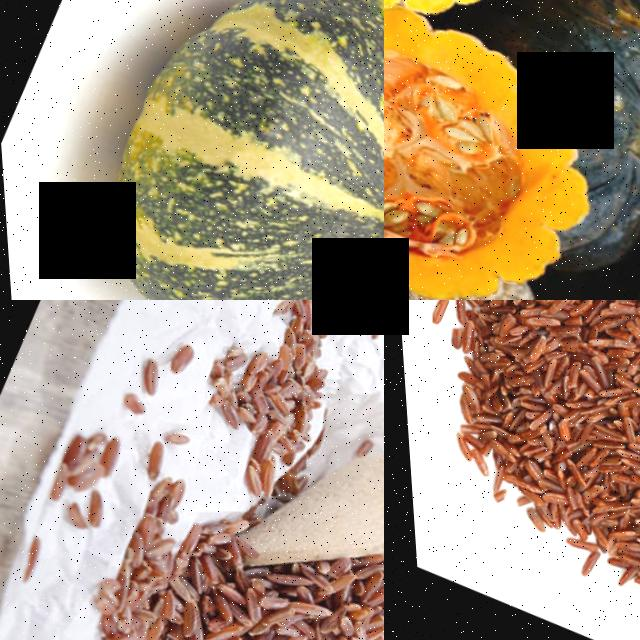pumpkin: (29, 0, 384, 300), (384, 0, 629, 300), (538, 0, 640, 229), (384, 0, 640, 65)
red rice: (384, 300, 640, 640), (168, 300, 366, 498), (11, 501, 278, 640), (205, 477, 384, 640)
